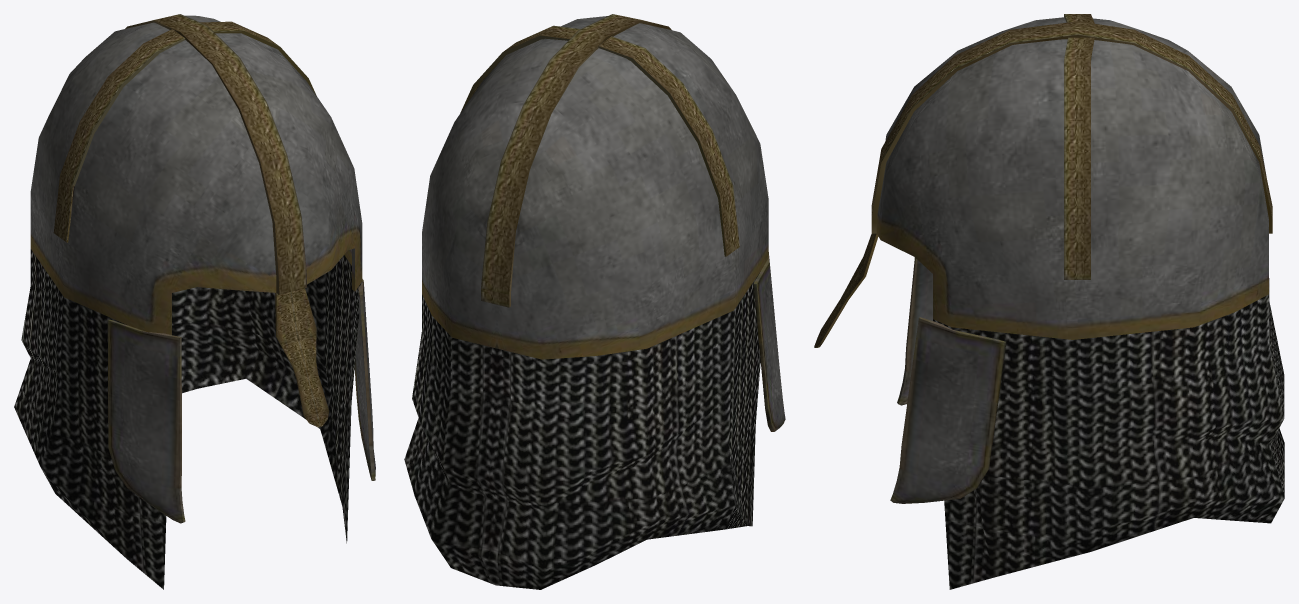
Rendered from Helm_2.glb.
3 views of the same model, side by side, from view 1: azimuth 30°, elevation 25°; view 2: azimuth 150°, elevation 25°; view 3: azimuth 270°, elevation 25° (orthographic). The views are drawn at different scales.
Parts seen in each view (by area): view 1: Helm_2; view 2: Helm_2; view 3: Helm_2.
Part boxes in pixels (x1,y1,x2,y2): Helm_2: (14, 14, 375, 589); Helm_2: (404, 14, 785, 589); Helm_2: (814, 14, 1284, 589).
Bounding box in the file's own units: 0.2229 × 0.3629 × 0.3.
1 material, 1 textured.
